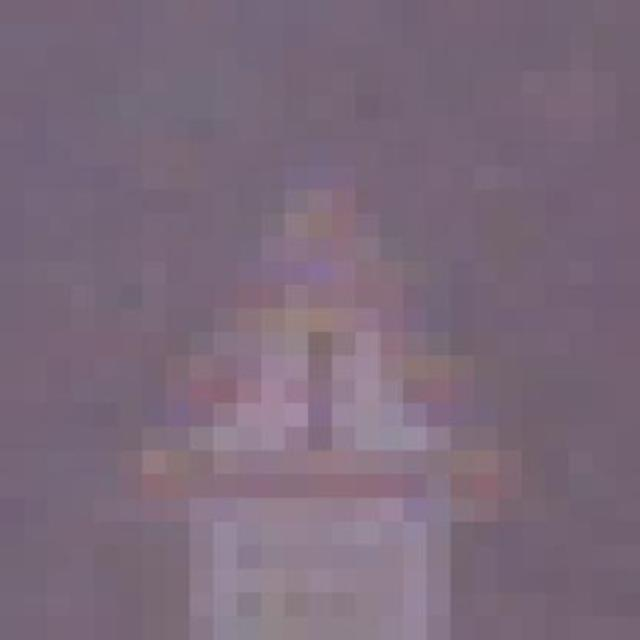Attention Please-: (94, 190, 546, 545)
